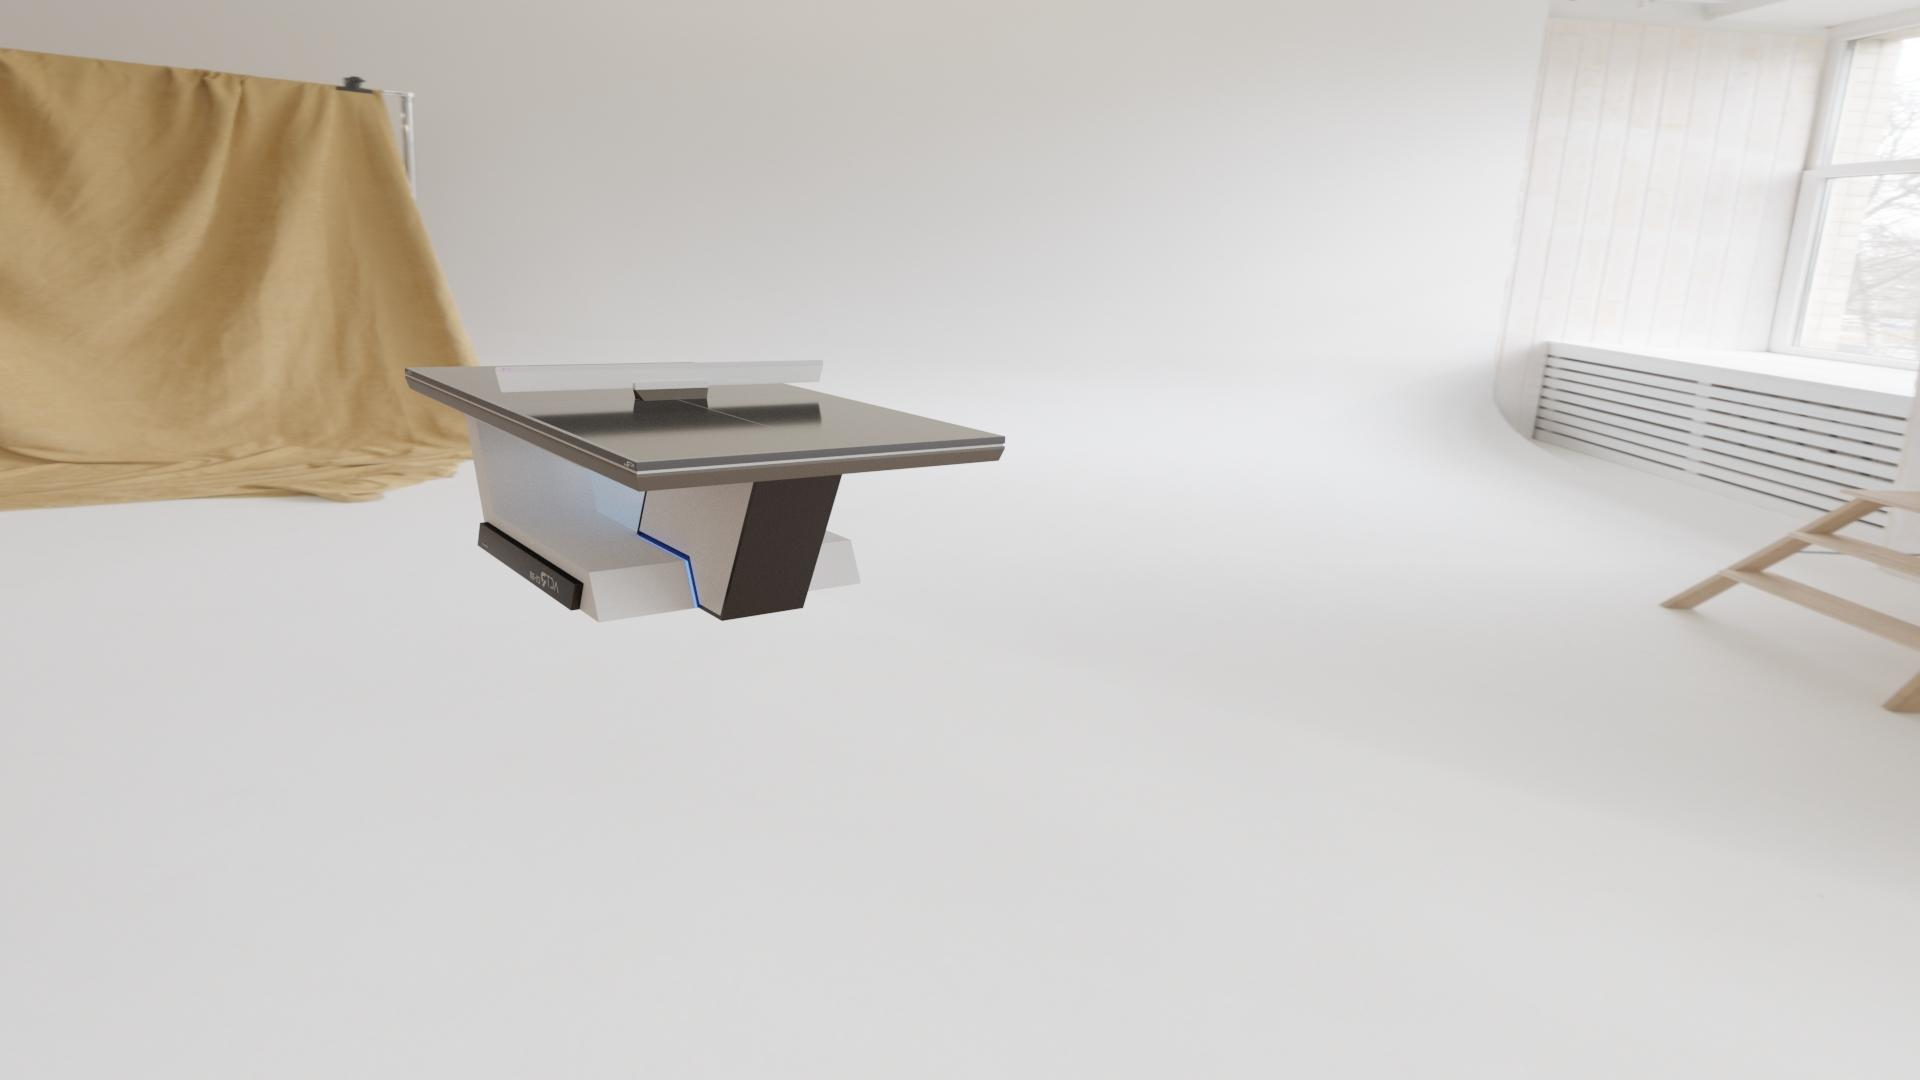table: (410, 363, 998, 462)
